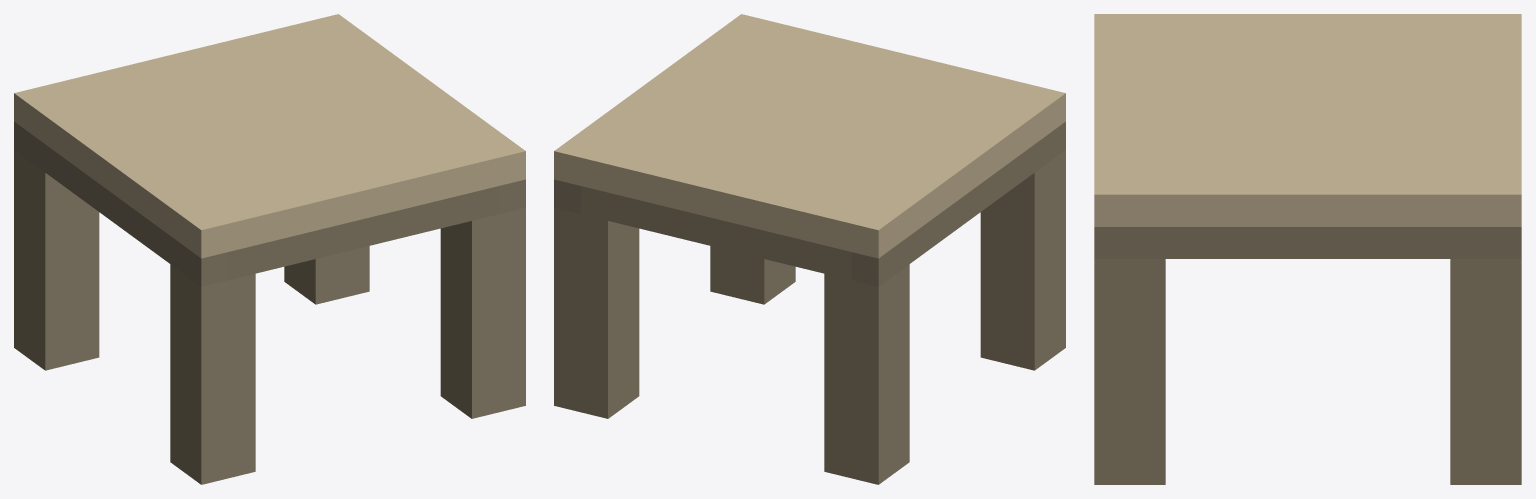
The model's file is mesa_corte_cocina_desgastada_01.glb.
3 renders of one model, left to right at view 1: azimuth 30°, elevation 25°; view 2: azimuth 150°, elevation 25°; view 3: azimuth 270°, elevation 25°, orthographic. The views are drawn at different scales.
Parts seen in each view (by area): view 1: mesa_corte_cocina_desgastada; view 2: mesa_corte_cocina_desgastada; view 3: mesa_corte_cocina_desgastada.
Boxes of the visible parts, bbox=[...] form: mesa_corte_cocina_desgastada: bbox=[14, 14, 525, 484]; mesa_corte_cocina_desgastada: bbox=[554, 14, 1065, 484]; mesa_corte_cocina_desgastada: bbox=[1094, 14, 1521, 484].
Size of the model in its own units: 1 by 0.75 by 1.
